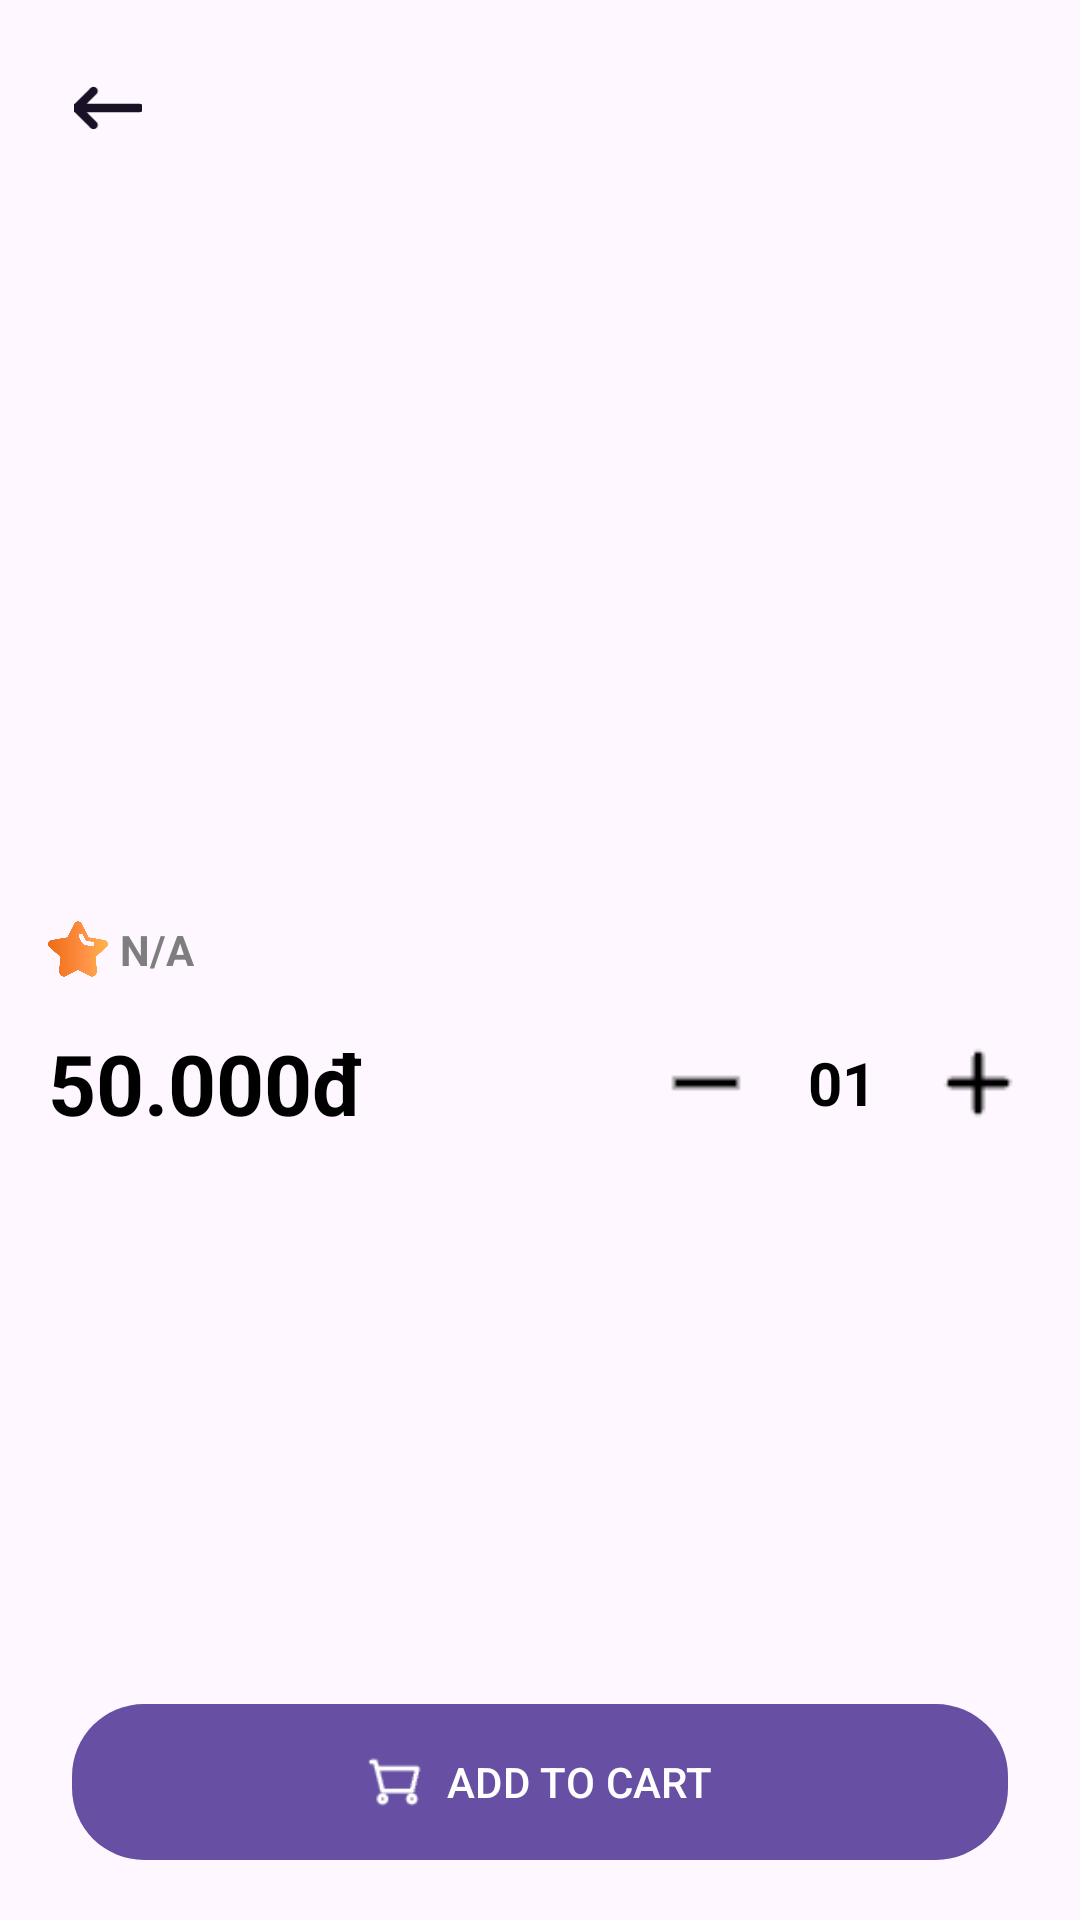

Icon bounding boxes for this 1080 × 1920 phone screenshot, format (x1, y1, x2, y2):
arrow: (74, 86, 142, 129)
minus: (672, 1076, 740, 1090)
plus: (945, 1050, 1012, 1116)
star: (48, 921, 108, 977)
